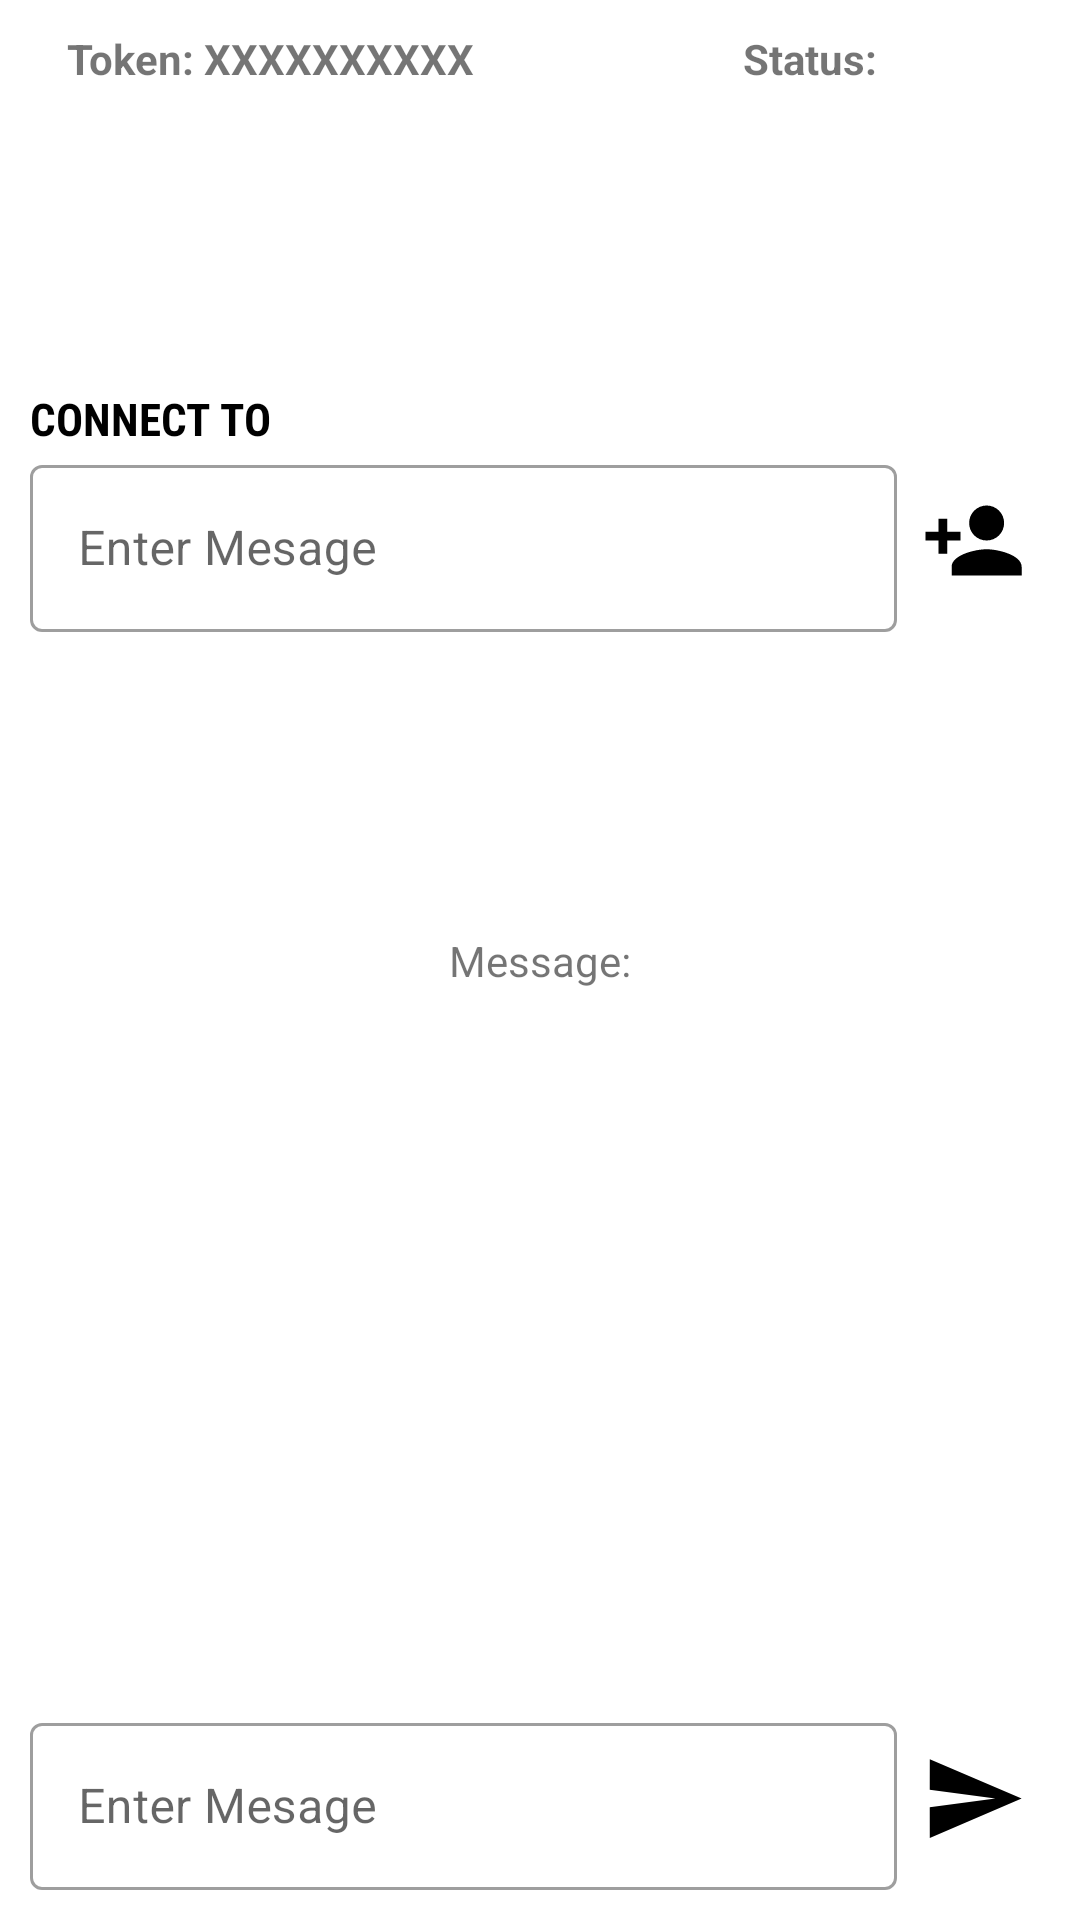

Locate icon controls on the screen. Image size 1080w x 1920h, boxes as (left=x1, top=y1, right=x2, bottom=y2).
add contact: (left=925, top=505, right=1022, bottom=576)
send: (left=929, top=1759, right=1022, bottom=1838)
